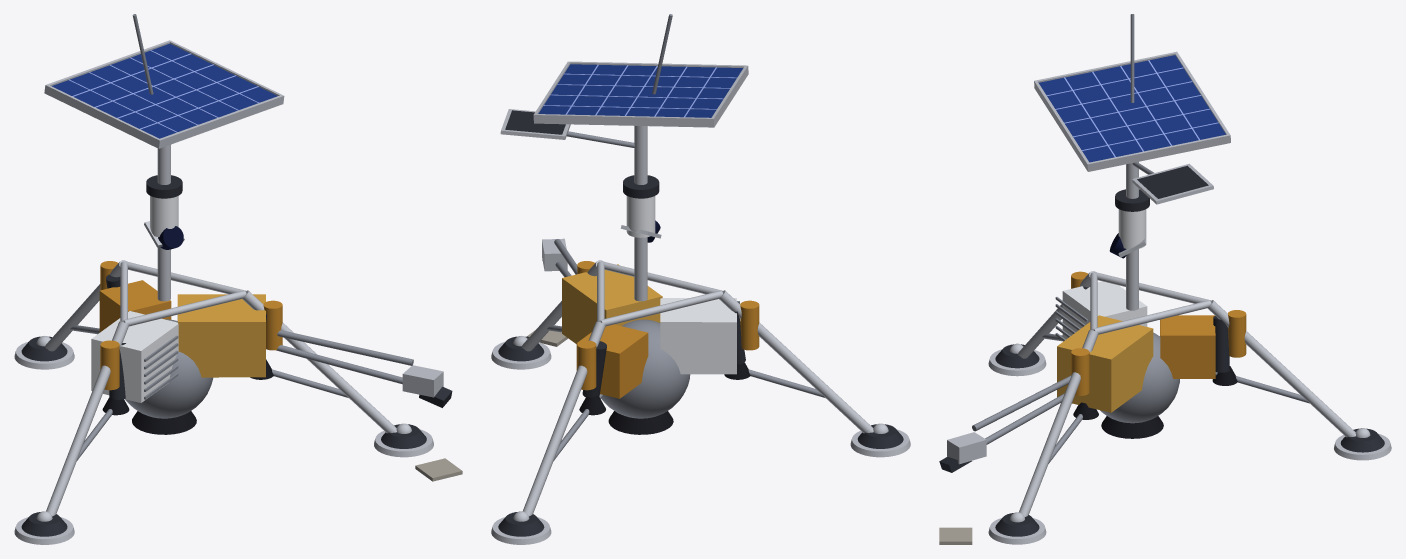
Rendered from surveyor3.glb.
3 renders of one model, left to right at view 1: azimuth 30°, elevation 25°; view 2: azimuth 150°, elevation 25°; view 3: azimuth 270°, elevation 25°, orthographic. The views are drawn at different scales.
Parts seen in each view (by area): view 1: surveyor3, solar-array, footpad (×3), camera; view 2: surveyor3, solar-array, footpad (×3), camera, planar-antenna; view 3: surveyor3, solar-array, footpad (×3), planar-antenna, camera.
Part boxes in pixels (<box>): surveyor3: <box>45,14,462,516</box>; solar-array: <box>44,40,284,148</box>; footpad (×3): <box>14,336,433,544</box>; camera: <box>144,175,184,249</box>; surveyor3: <box>521,14,873,516</box>; solar-array: <box>533,61,748,127</box>; footpad (×3): <box>491,336,910,544</box>; camera: <box>620,175,661,242</box>; planar-antenna: <box>500,109,570,139</box>; surveyor3: <box>939,14,1355,544</box>; solar-array: <box>1034,51,1230,171</box>; footpad (×3): <box>988,343,1391,544</box>; planar-antenna: <box>1132,163,1213,204</box>; camera: <box>1109,189,1149,258</box>.
Size of the model in its own units: 2.48 by 2.54 by 2.46.
